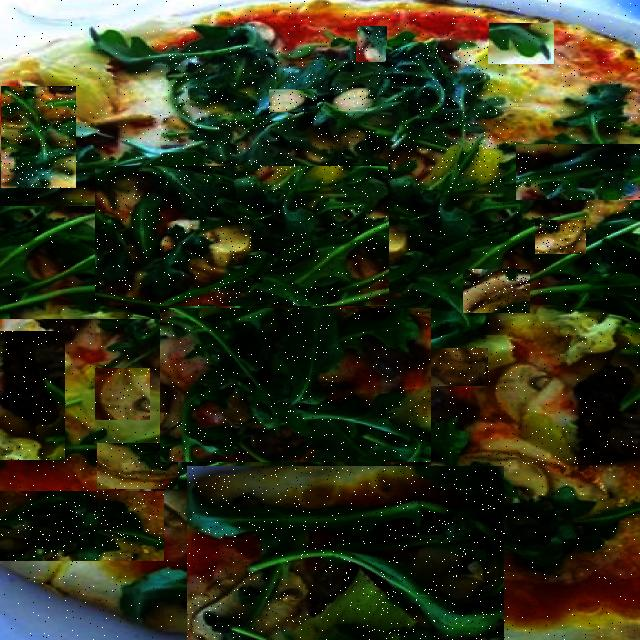Mushrooms: (97, 443, 178, 489), (463, 269, 530, 313), (95, 368, 150, 420), (428, 348, 488, 386), (535, 220, 586, 254), (270, 89, 318, 112), (357, 26, 387, 62)
Pizza: (0, 0, 640, 640)
Rucola: (188, 466, 506, 640), (162, 46, 502, 188), (160, 308, 431, 462), (95, 166, 389, 306), (0, 206, 164, 319), (0, 491, 164, 561), (0, 331, 65, 460), (2, 86, 78, 188), (516, 144, 640, 200), (482, 428, 640, 464), (489, 23, 554, 64)
